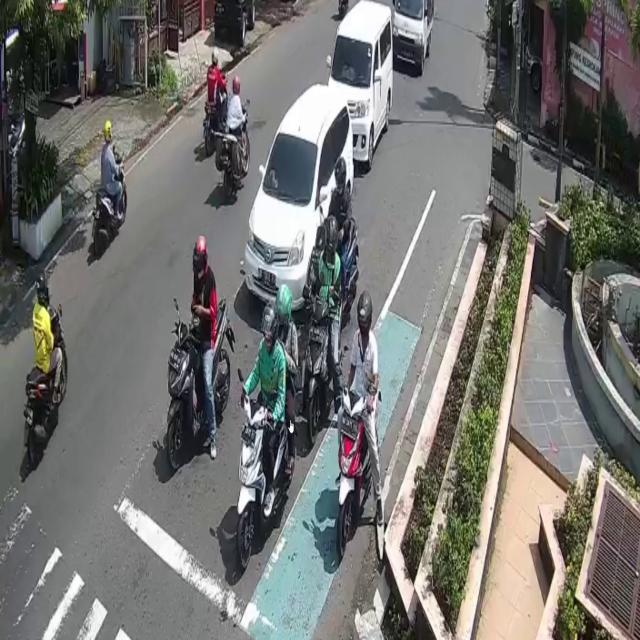bus: (163, 297, 234, 474), (237, 396, 290, 568), (23, 306, 67, 465), (337, 387, 372, 555), (305, 298, 333, 447), (92, 151, 127, 263)
motorcycle: (243, 81, 354, 319), (329, 0, 394, 162), (390, 0, 434, 77)
